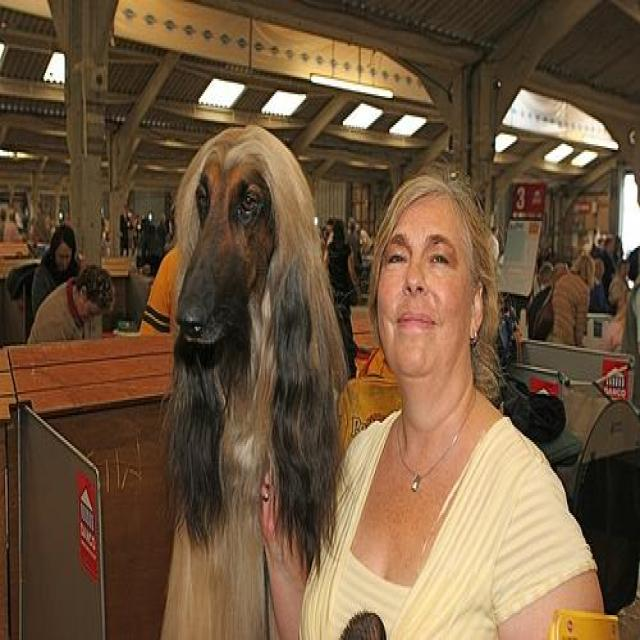afghan_hound: (156, 125, 343, 638)
